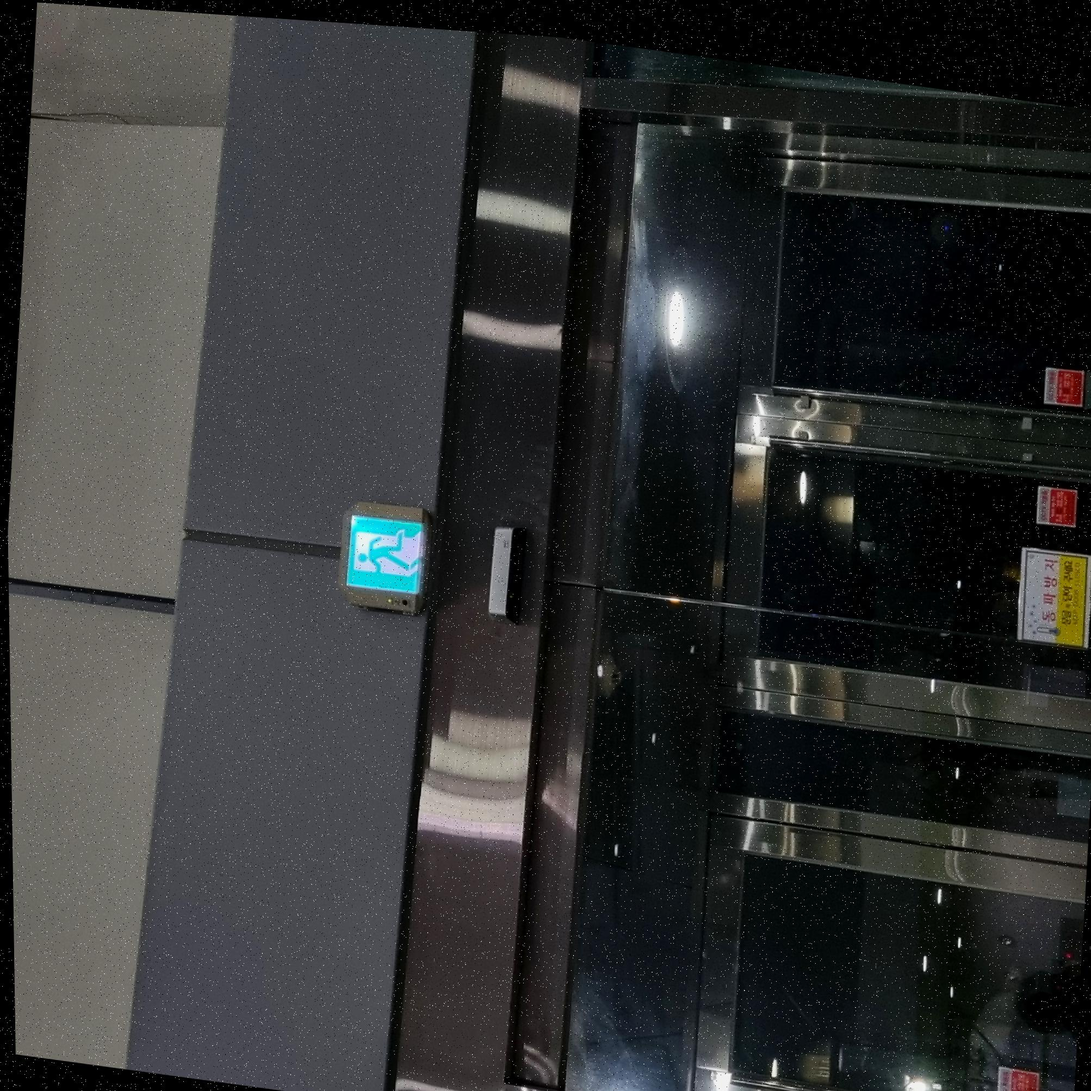emergency_exit: (338, 501, 432, 615), (1034, 482, 1080, 529), (1042, 364, 1086, 409)
